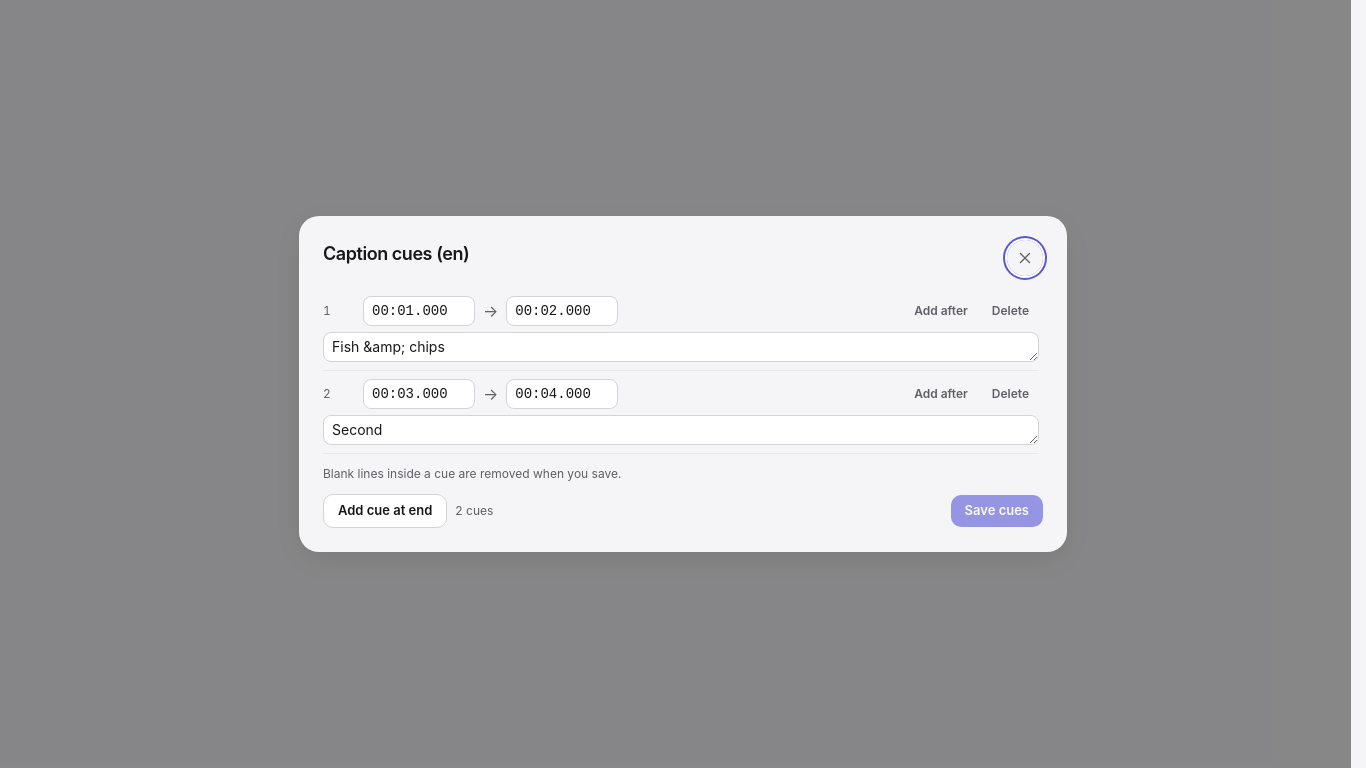
Test case: CaptionCueEditor › warns, without blocking, when cues overlap
This screenshot has width=1366, height=768.
Replace the text in the field named "Cue 2 start" with "00:01.500" at point(419, 394), box [363,379,475,409]
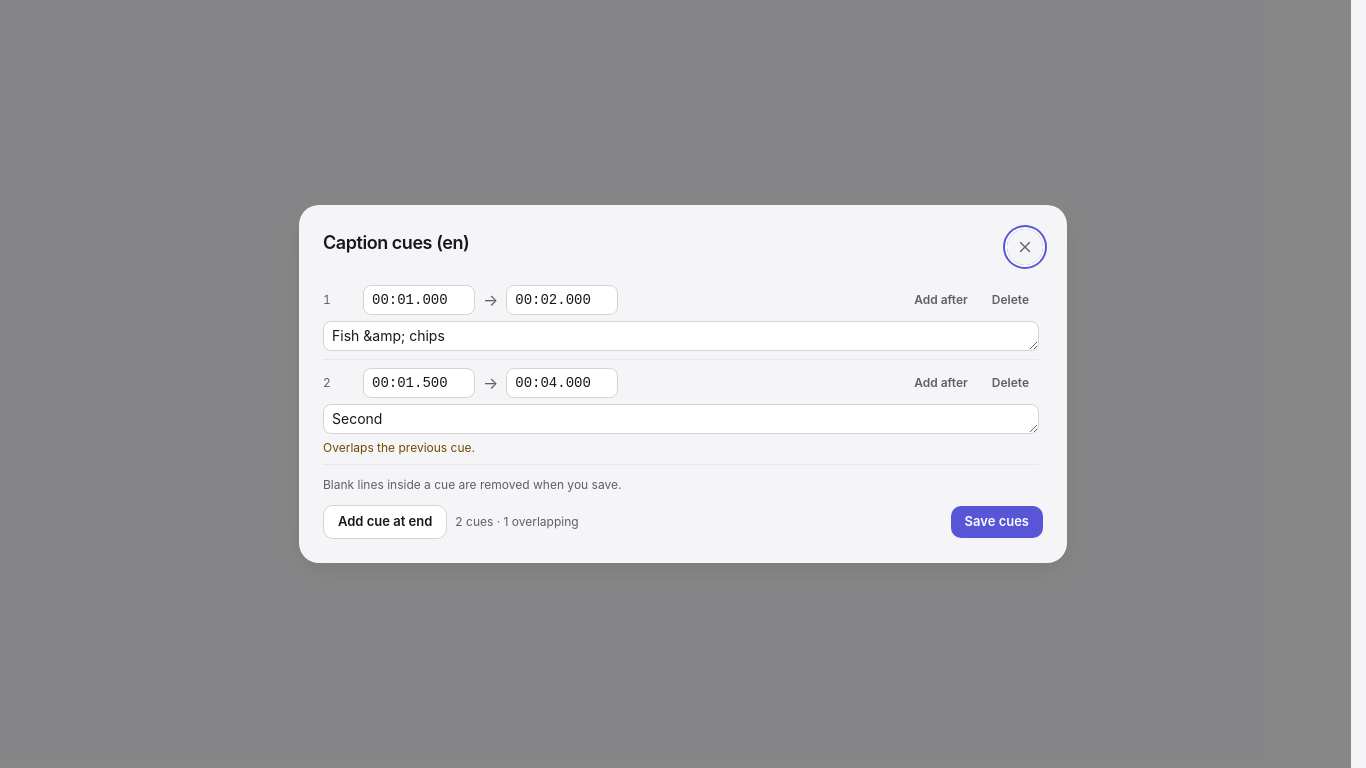
Result: the text "Overlaps the previous cue." is shown at [323,440,475,455]
Result: the button "Save cues" is enabled at [951,506,1043,538]
